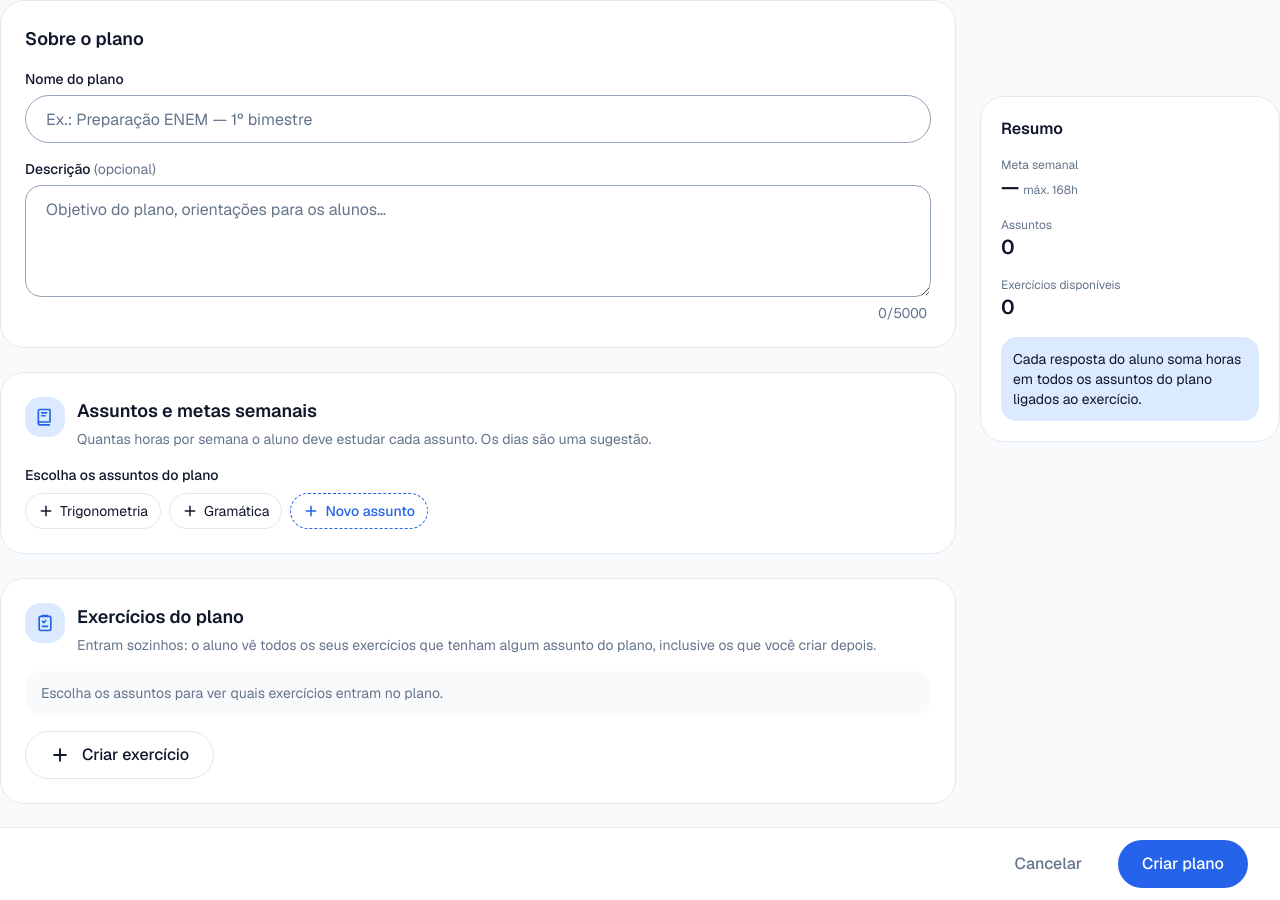
PlanEditor › shows the exercises that join the plan through its subjects
This screenshot has width=1280, height=900.
Expected: the text "Escolha os assuntos para ver quais exercícios entram" is shown, [41,684,443,702]
Click the button "Trigonometria".
click(93, 511)  # box [25,493,161,529]
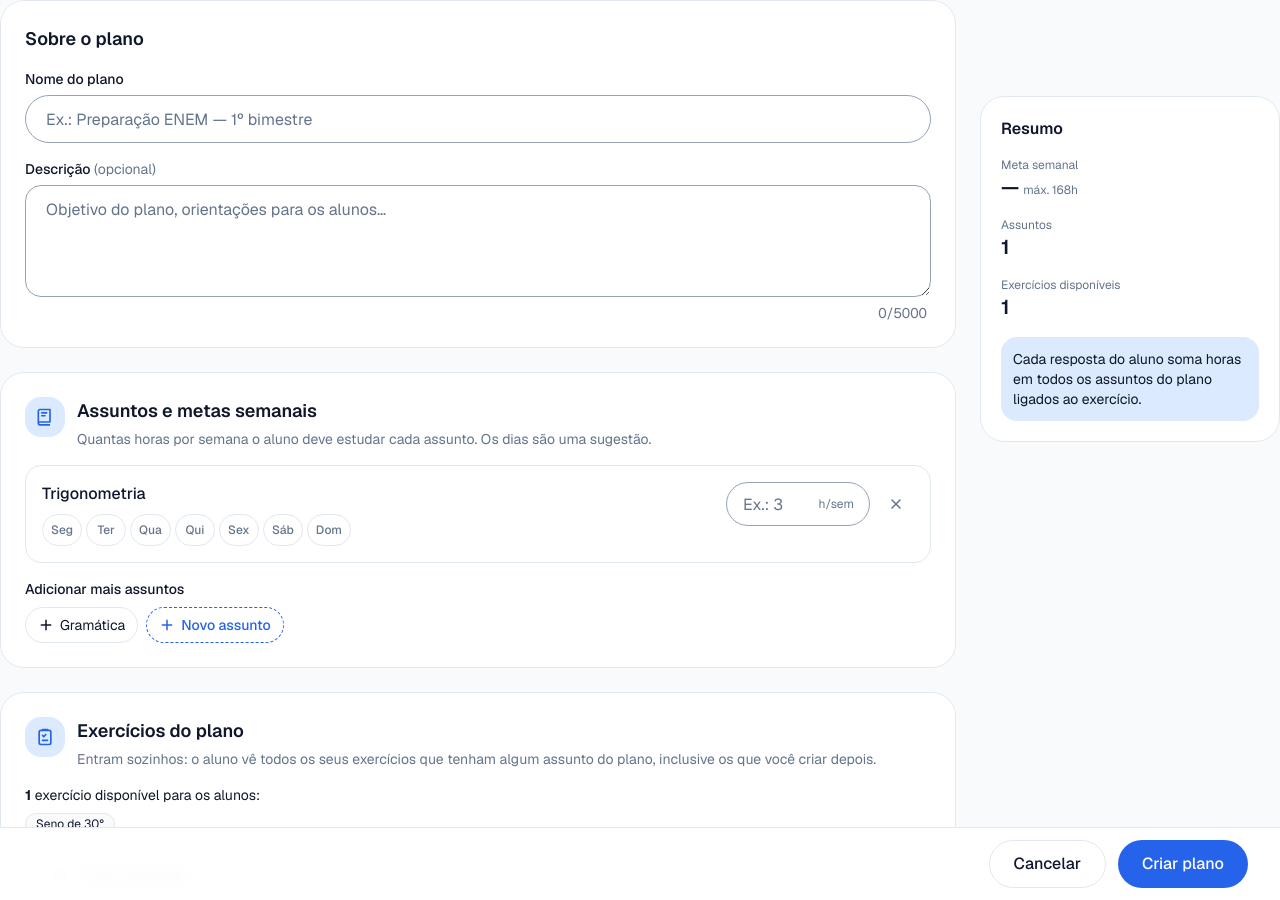
Now the text "1 exercício disponível para os alunos:" is shown, box [25,786,260,804]
Now the list item "Seno de 30°" is shown, box [25,813,115,835]
